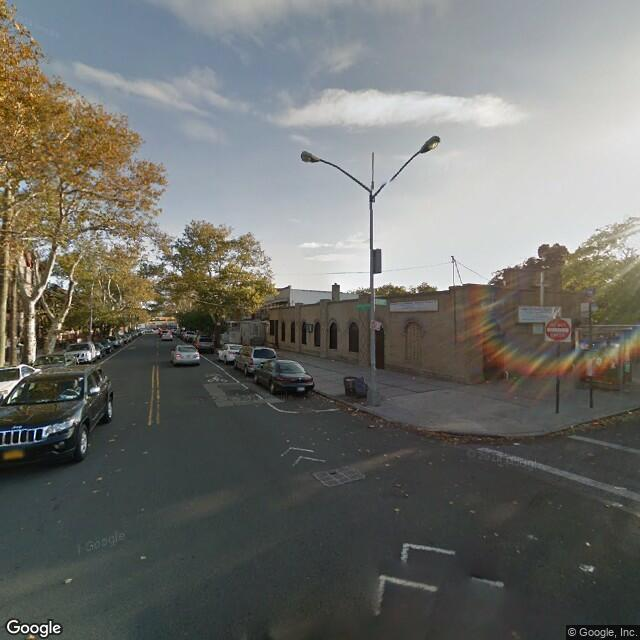litter: (421, 427, 522, 450), (565, 419, 639, 436), (344, 373, 367, 404)
